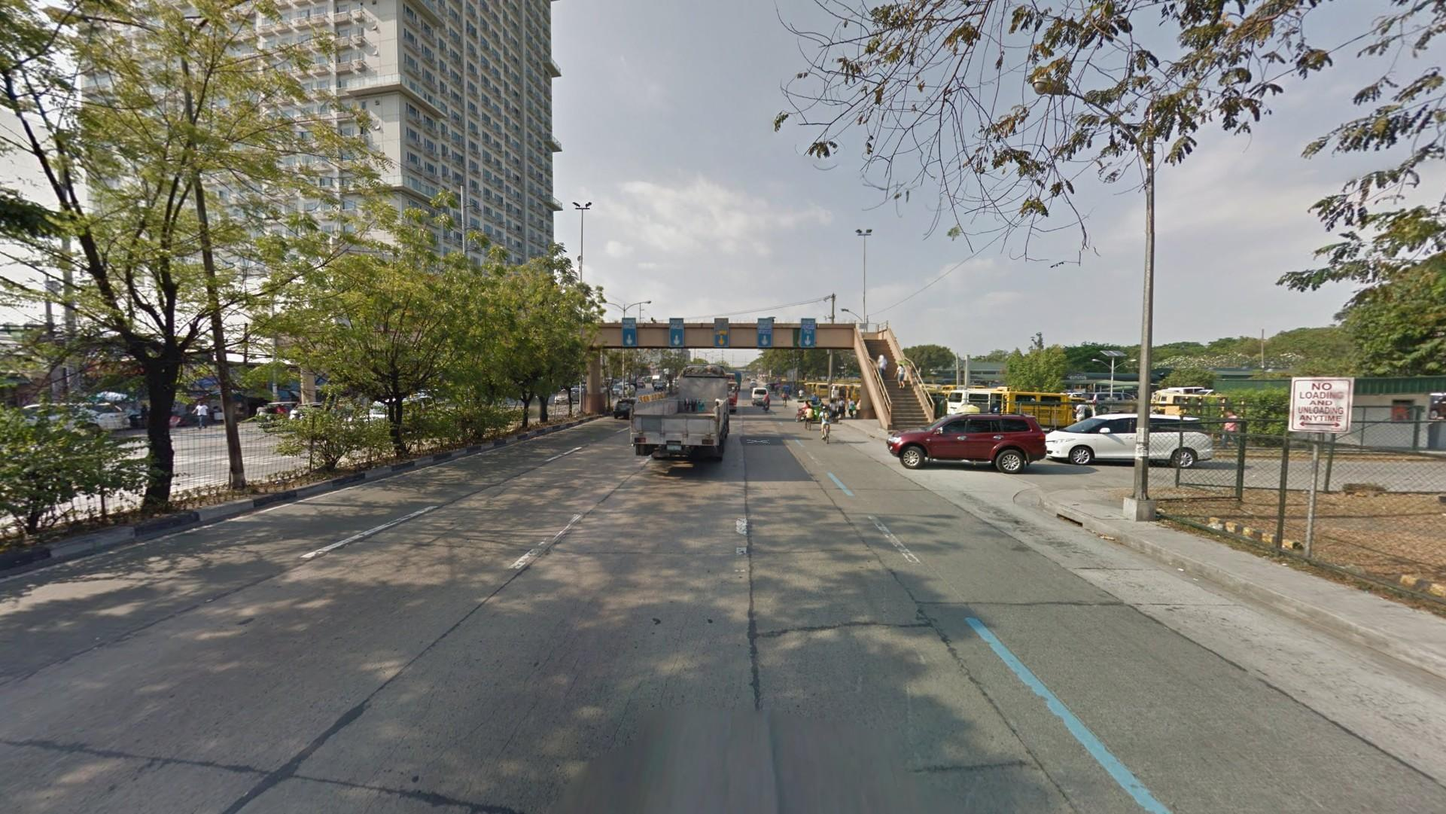cyclist: (818, 405, 831, 445), (804, 405, 814, 431), (780, 387, 790, 409)
pedestrian: (1220, 408, 1242, 451), (191, 400, 210, 431), (1073, 400, 1089, 429), (894, 362, 905, 390), (877, 354, 887, 380), (829, 397, 837, 423), (847, 397, 855, 419), (837, 397, 844, 419), (810, 392, 817, 411), (841, 396, 846, 419), (798, 388, 804, 402)
